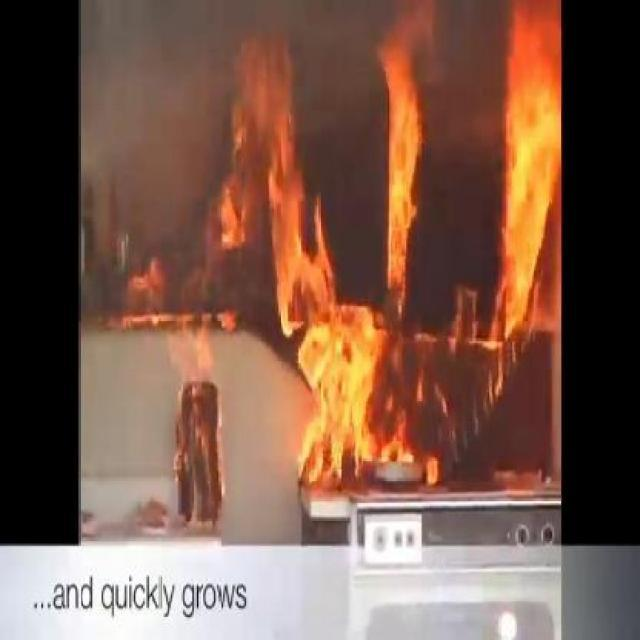fire: (286, 342, 479, 484), (214, 64, 326, 306), (504, 23, 544, 389), (374, 34, 422, 322), (162, 323, 225, 512), (108, 252, 207, 318)
